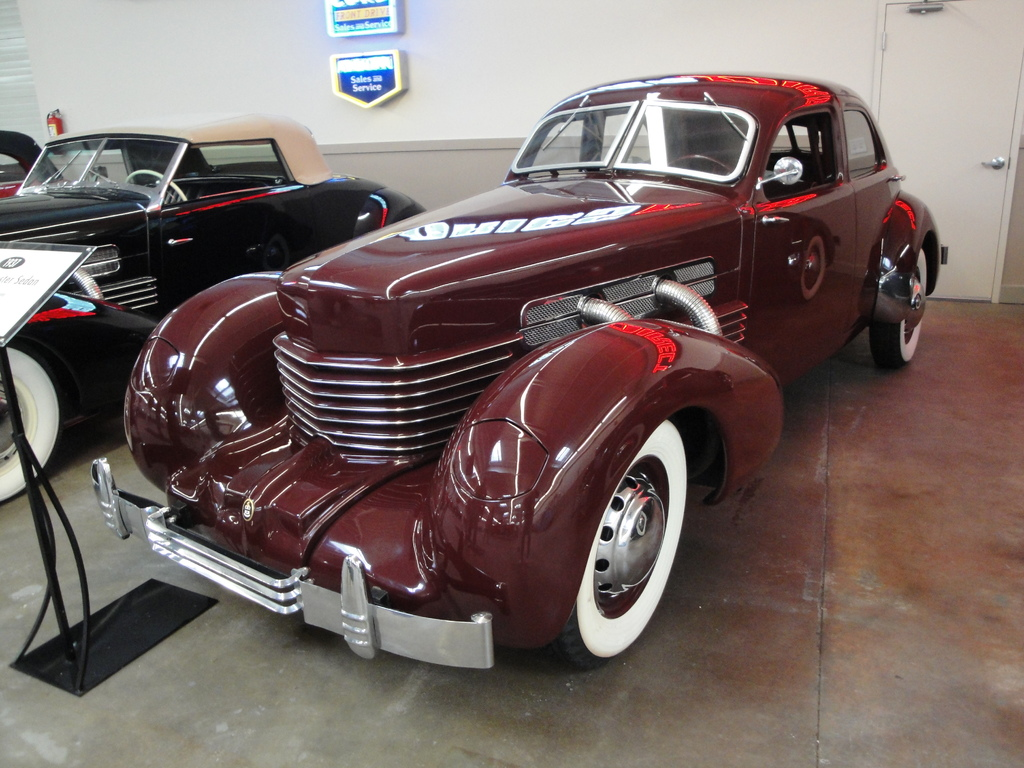cars: (91, 74, 943, 674), (0, 126, 420, 503)
